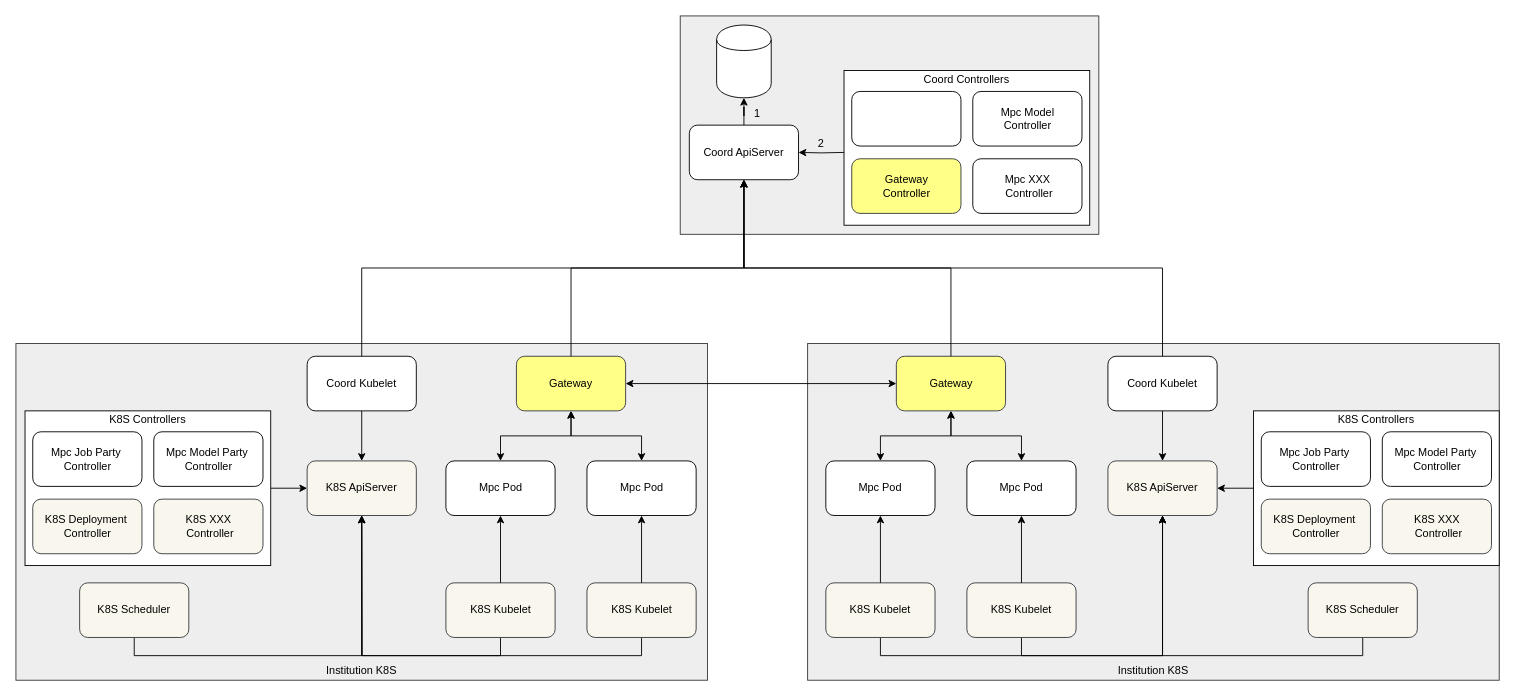
This 1515x696 diagram has some shape labels left out. The centre of each missing label's shape, as x and y in pixels:
"Coord Etcd" belongs at point (743, 61).
"Mpc Job Controller" belongs at point (906, 118).
